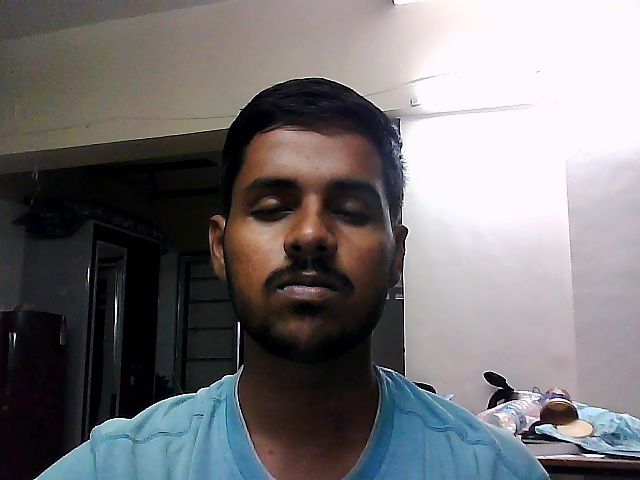drowsy: (179, 64, 429, 384)
